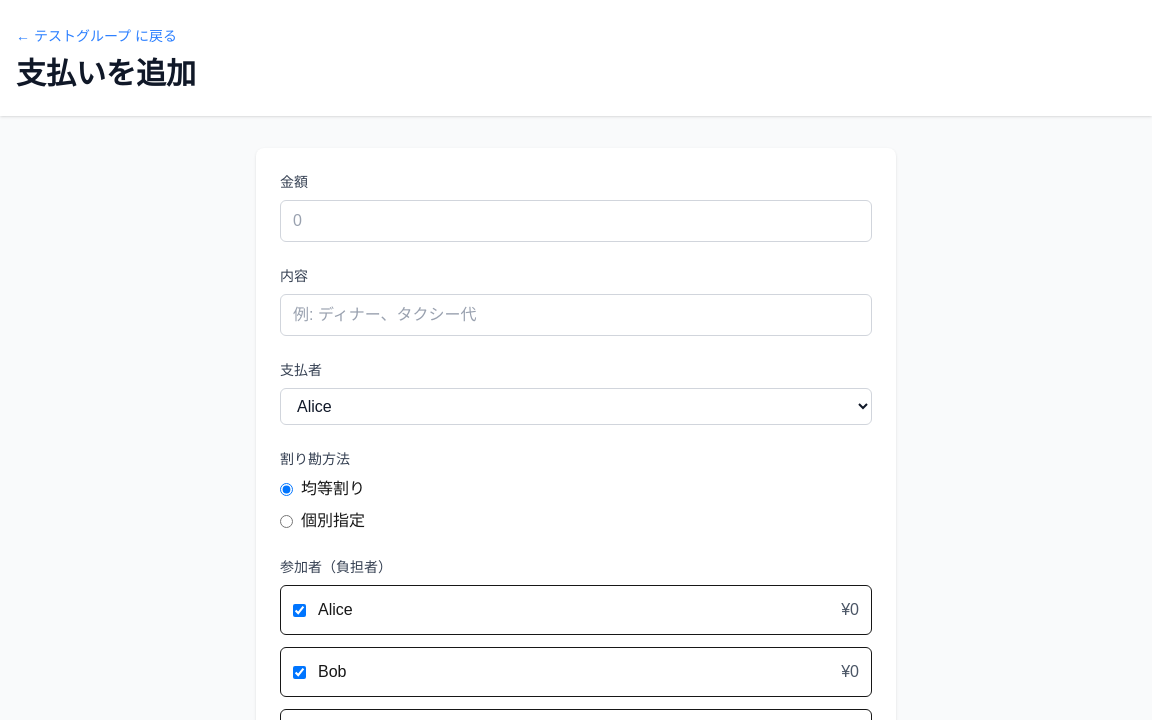
Scenario: AddPaymentPage Integration Tests › should handle participant selection correctly
The width and height of the screenshot is (1152, 720).
Type "3000" into the number field labelled "金額" at {"x": 576, "y": 221}, box top-left (280, 200), bottom-right (872, 242)
(page scrolled)
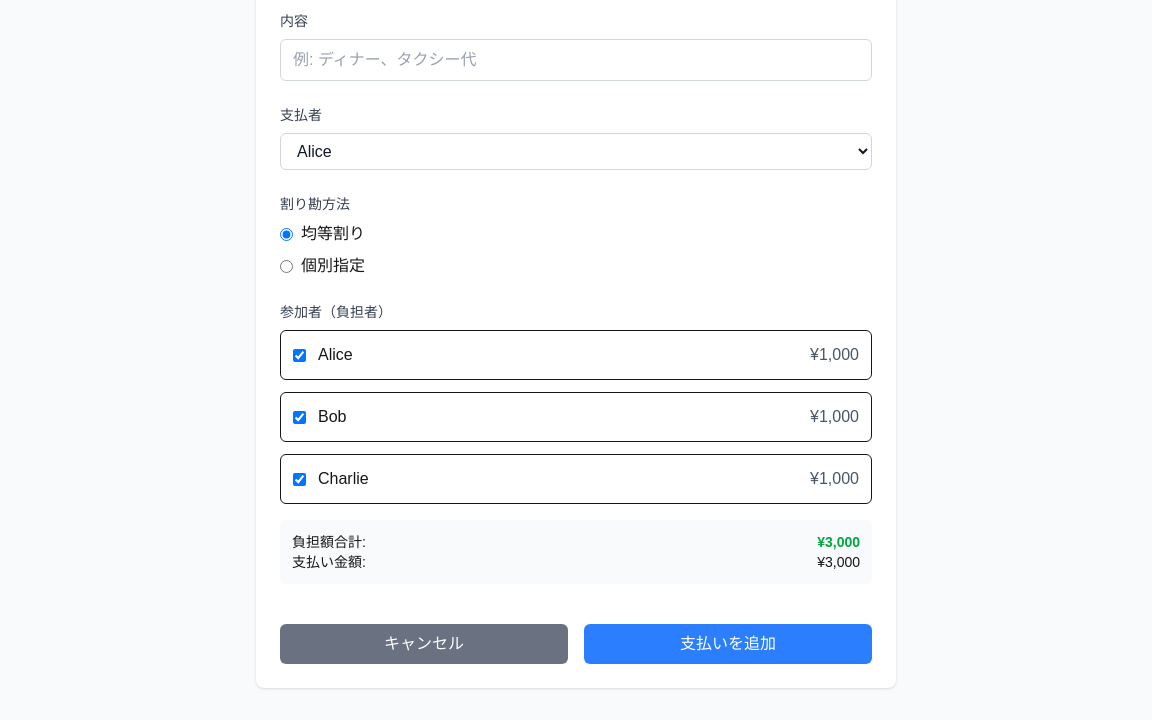
Expected: the radio button labelled "均等割り" is checked, top-left (280, 228), bottom-right (293, 240)
Expected: the checkbox labelled "Alice" is checked, top-left (293, 348), bottom-right (306, 362)
Note: Charlieの選択を解除
Click the checkbox labelled "Charlie" at {"x": 300, "y": 479}, box top-left (293, 472), bottom-right (306, 486)
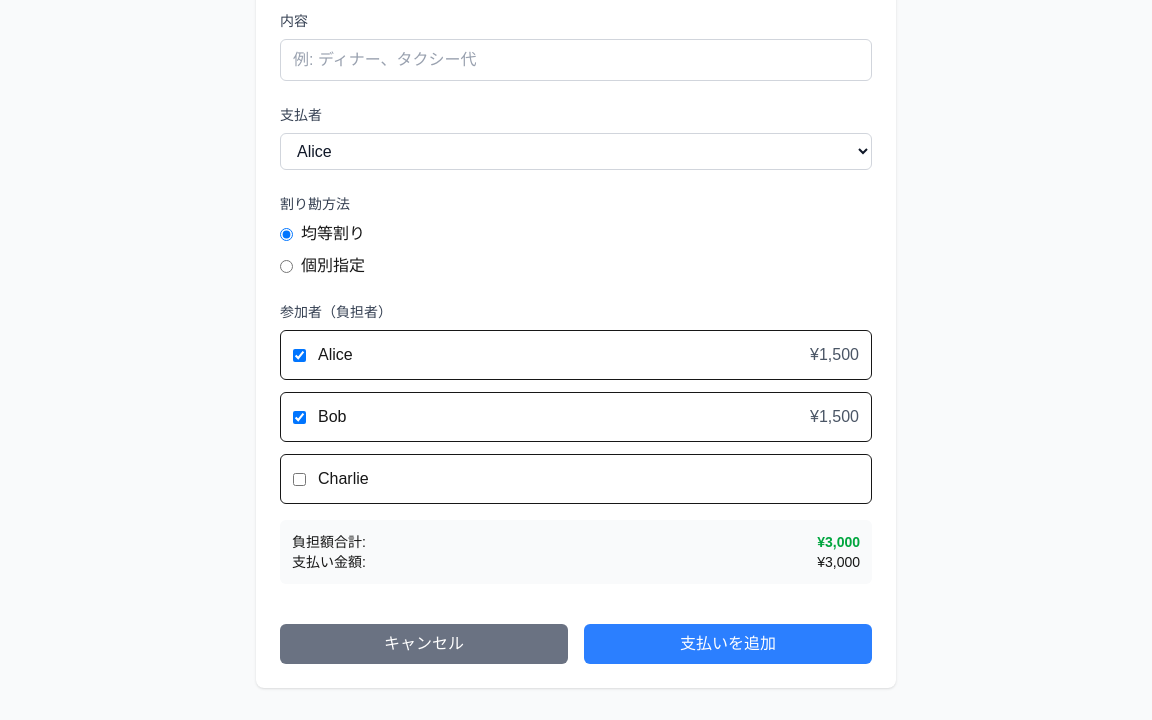
Result: the checkbox labelled "Charlie" is not checked at top-left (293, 472), bottom-right (306, 486)
Result: the text "¥1,500" is shown 2 times at top-left (810, 343), bottom-right (859, 367); top-left (810, 405), bottom-right (859, 429)
